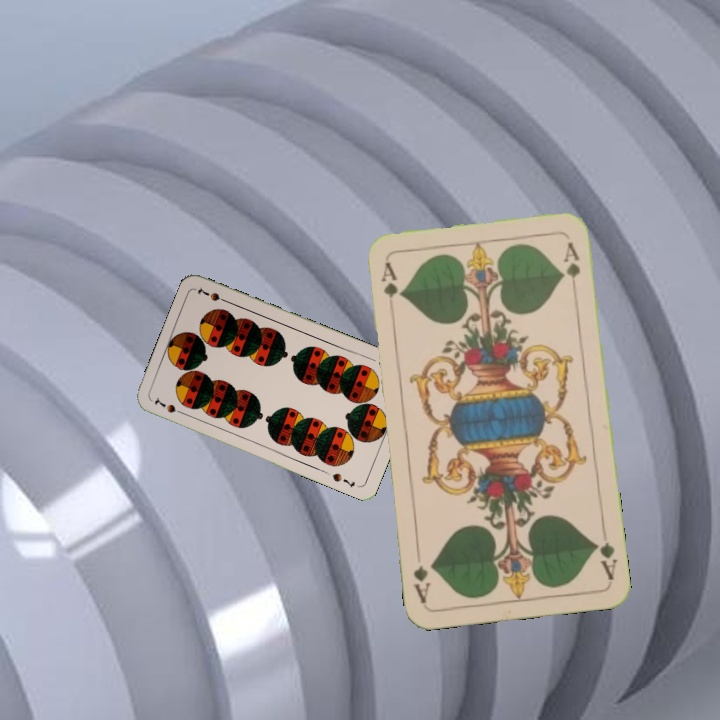GA: (590, 536, 620, 583), (377, 258, 401, 316)
S7: (150, 394, 187, 418)
